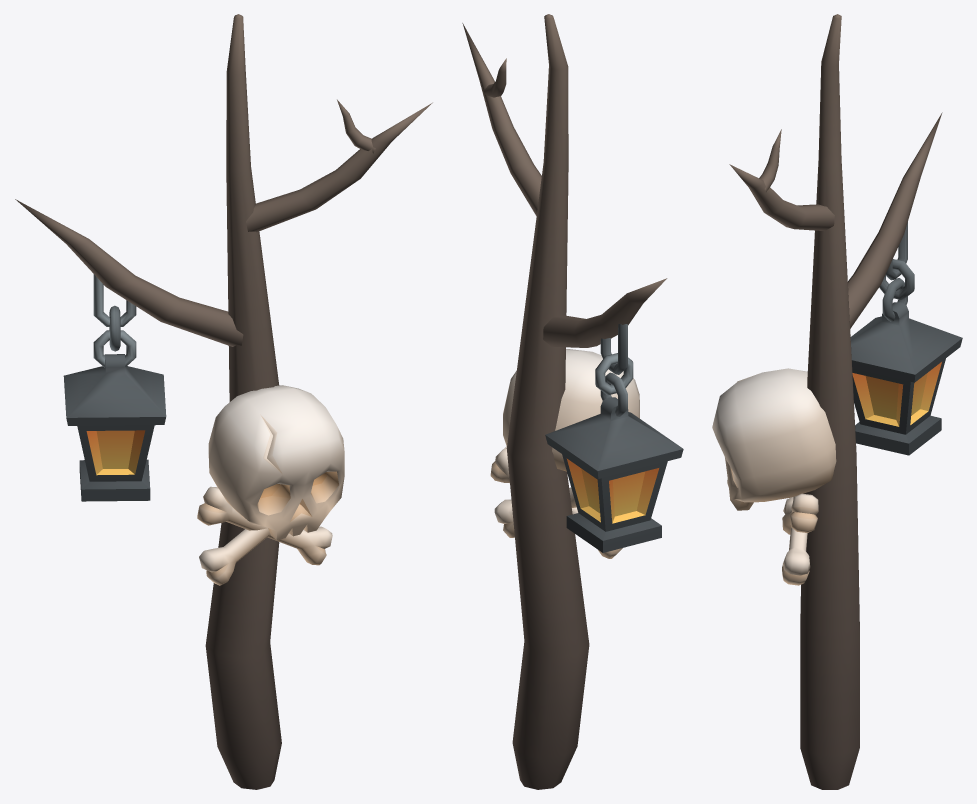
File: tree_dead_large_decorated.glb
The picture shows the model from 3 angles, left to right: view 1: azimuth 30°, elevation 25°; view 2: azimuth 150°, elevation 25°; view 3: azimuth 270°, elevation 25°; orthographic projection.
Visible parts, largest first — view 1: tree_dead_large_decorated; view 2: tree_dead_large_decorated; view 3: tree_dead_large_decorated.
Boxes of the visible parts, x1,y1,x2,y2 form: tree_dead_large_decorated: [15, 14, 432, 789]; tree_dead_large_decorated: [462, 14, 683, 789]; tree_dead_large_decorated: [712, 14, 962, 789].
Bounding box in the file's own units: 2.3 × 5.42 × 1.61.
1 material, 1 textured.
